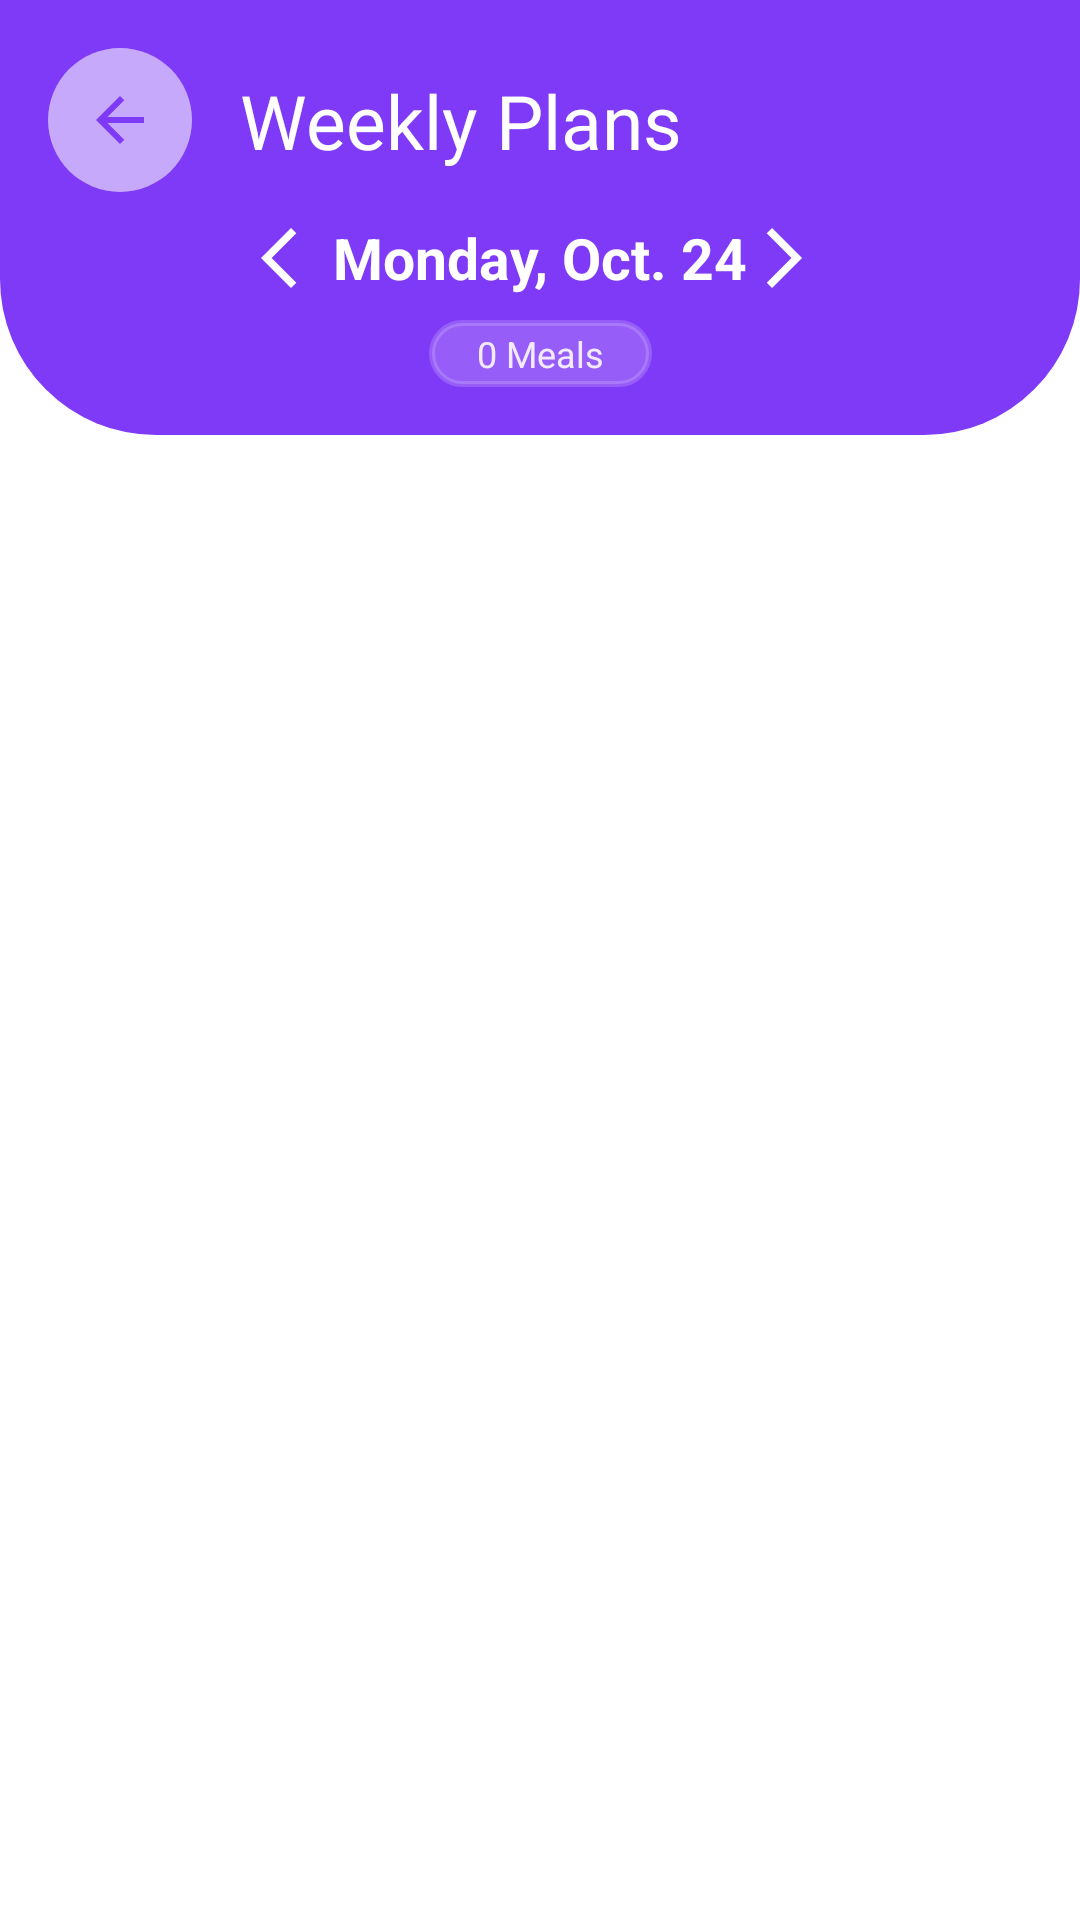

Named icons in this screenshot (1080 × 1920) and their bounding boxes, (x1, y1, x2, y2):
arrow forward: (767, 228, 802, 288)
Back: (48, 48, 192, 192)
